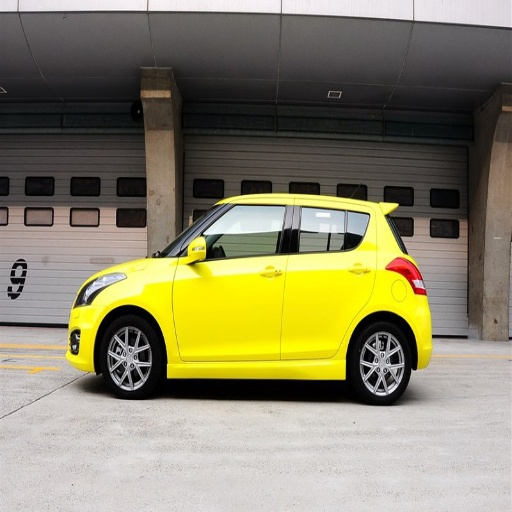back_left_door: (281, 203, 371, 358)
front_left_door: (173, 203, 292, 360)
